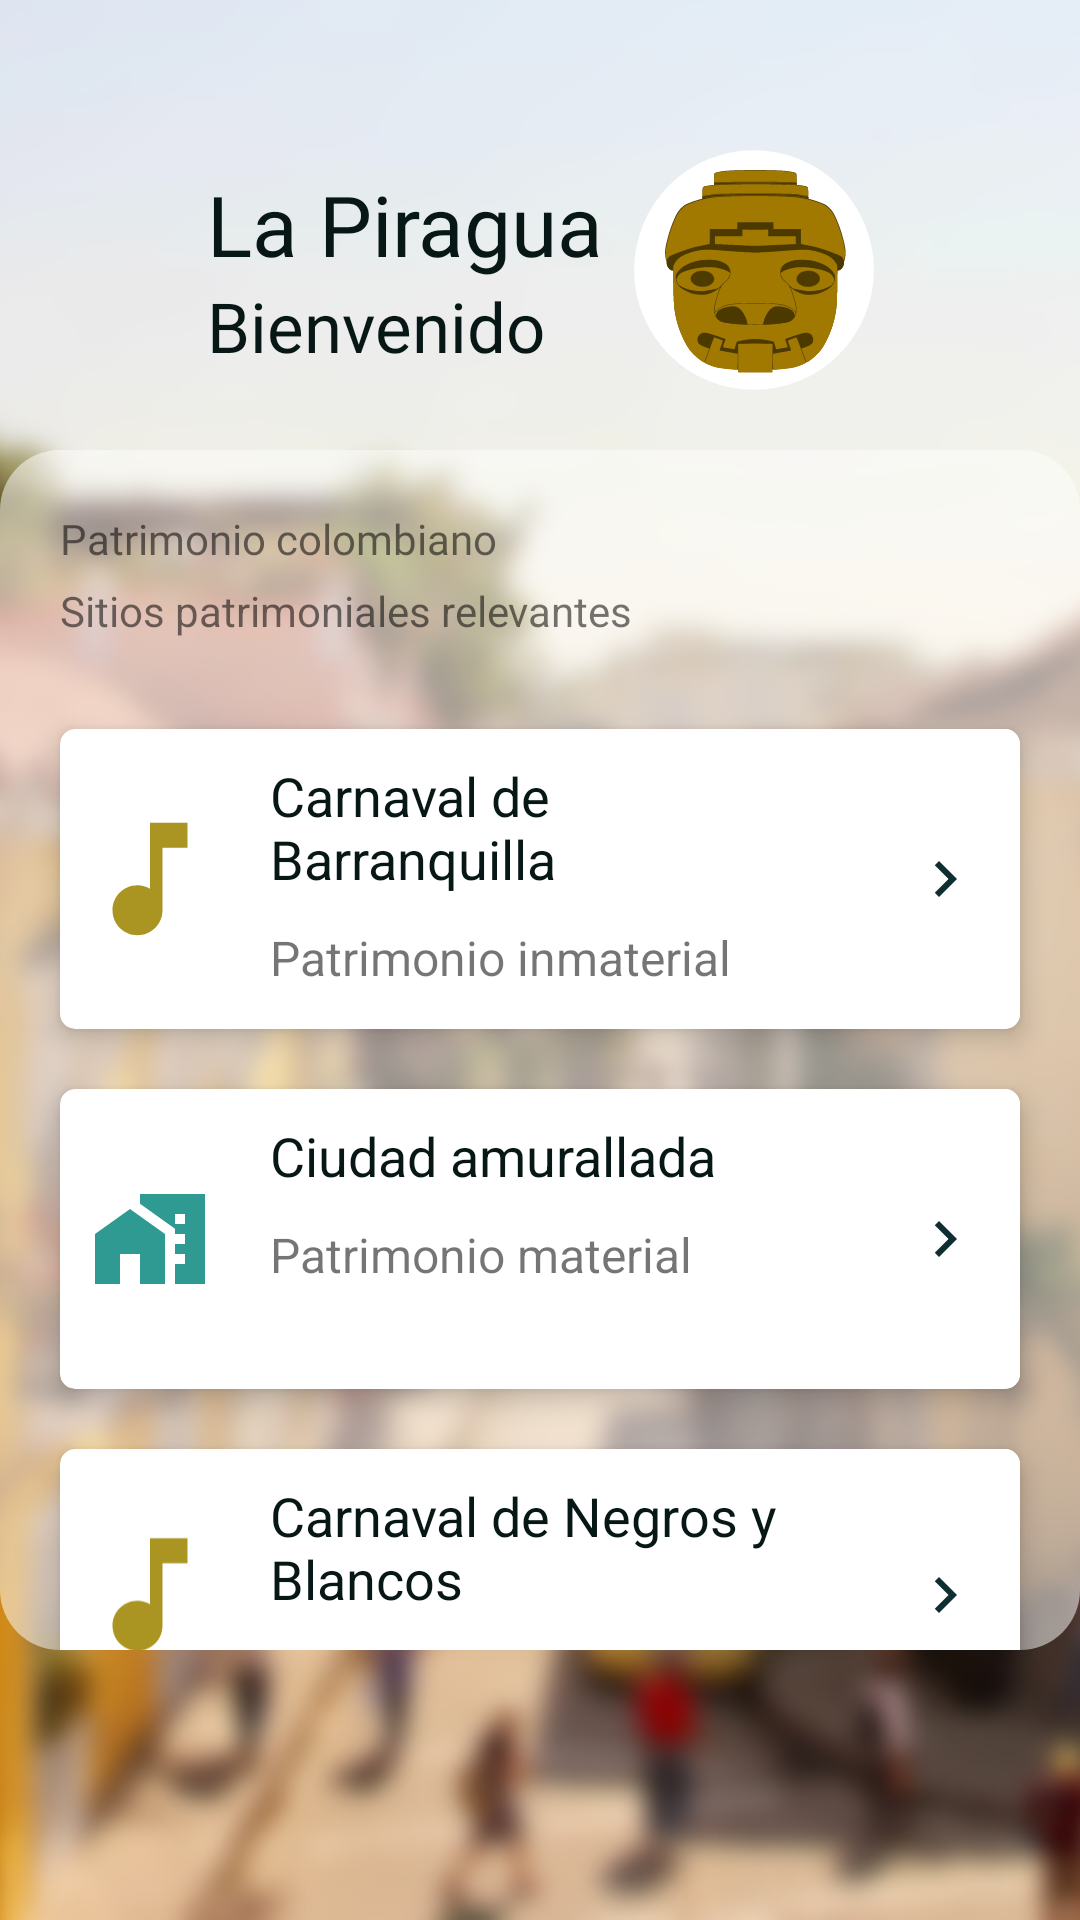

Named icons in this screenshot (1080×1920) and their centers, [x,y]:
maps home work: [150,1239]
